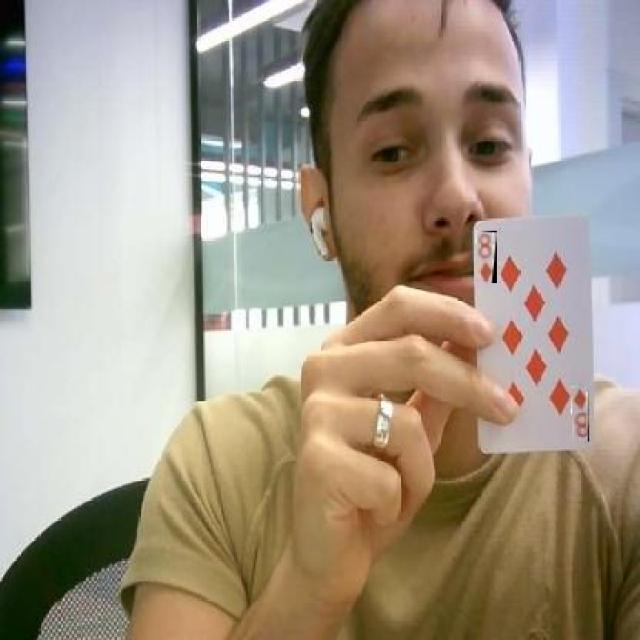8D: (477, 231, 497, 283), (572, 386, 590, 442)
